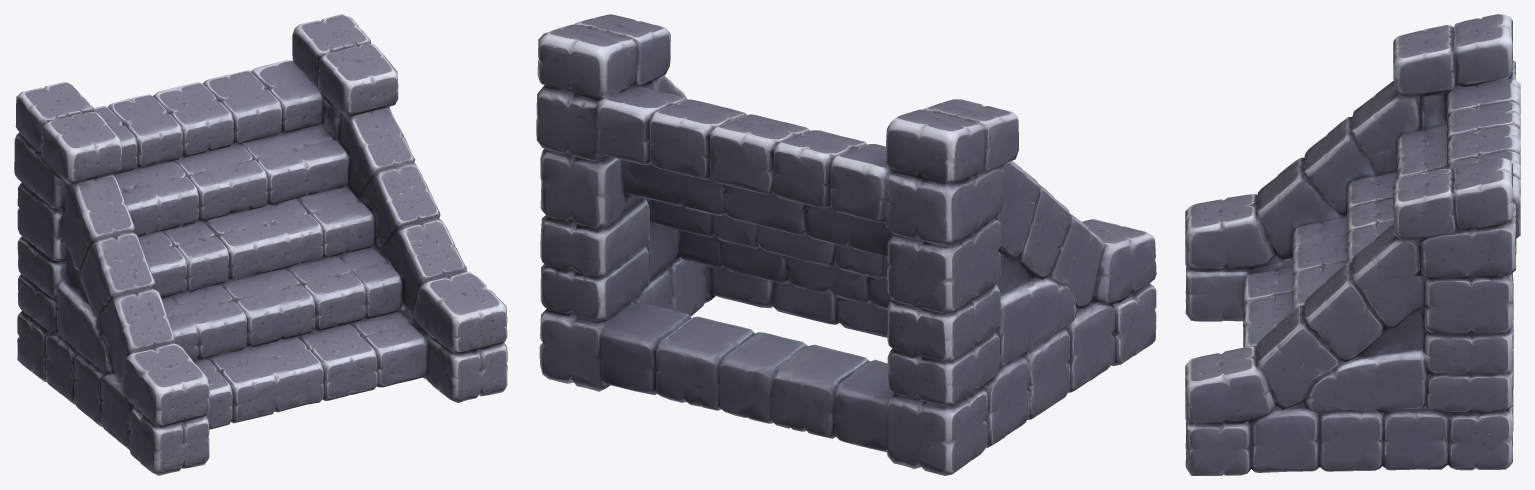
File: Escada 1.glb
3 views of the same model, side by side, from view 1: azimuth 30°, elevation 25°; view 2: azimuth 150°, elevation 25°; view 3: azimuth 270°, elevation 25° (orthographic). The views are drawn at different scales.
Parts seen in each view (by area): view 1: tripo_node_6cc8b14d-8436-4b47-83ef-f4fca7e14641; view 2: tripo_node_6cc8b14d-8436-4b47-83ef-f4fca7e14641; view 3: tripo_node_6cc8b14d-8436-4b47-83ef-f4fca7e14641.
Boxes of the visible parts, x1,y1,x2,y2 form: tripo_node_6cc8b14d-8436-4b47-83ef-f4fca7e14641: [14, 14, 507, 475]; tripo_node_6cc8b14d-8436-4b47-83ef-f4fca7e14641: [536, 14, 1156, 475]; tripo_node_6cc8b14d-8436-4b47-83ef-f4fca7e14641: [1185, 14, 1520, 475].
Size of the model in its own units: 1 by 0.738 by 0.7737.
1 material, 1 textured.
